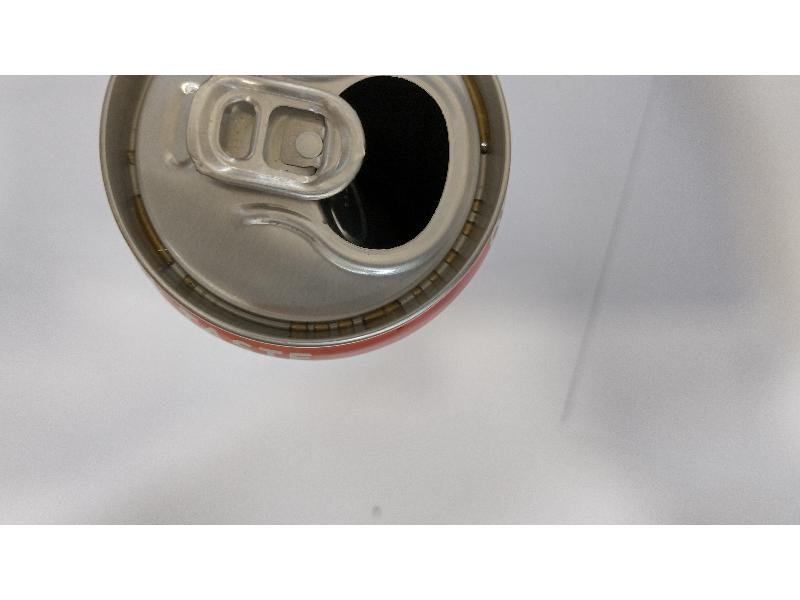can: (92, 75, 532, 369)
